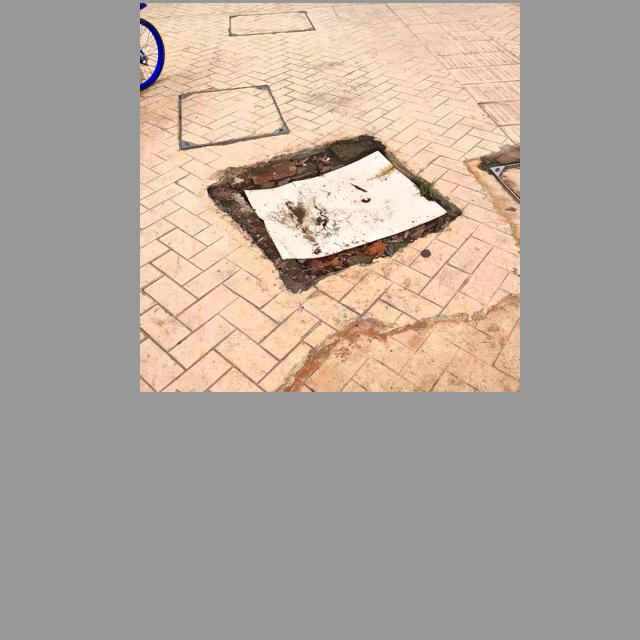broke: (197, 123, 470, 304)
